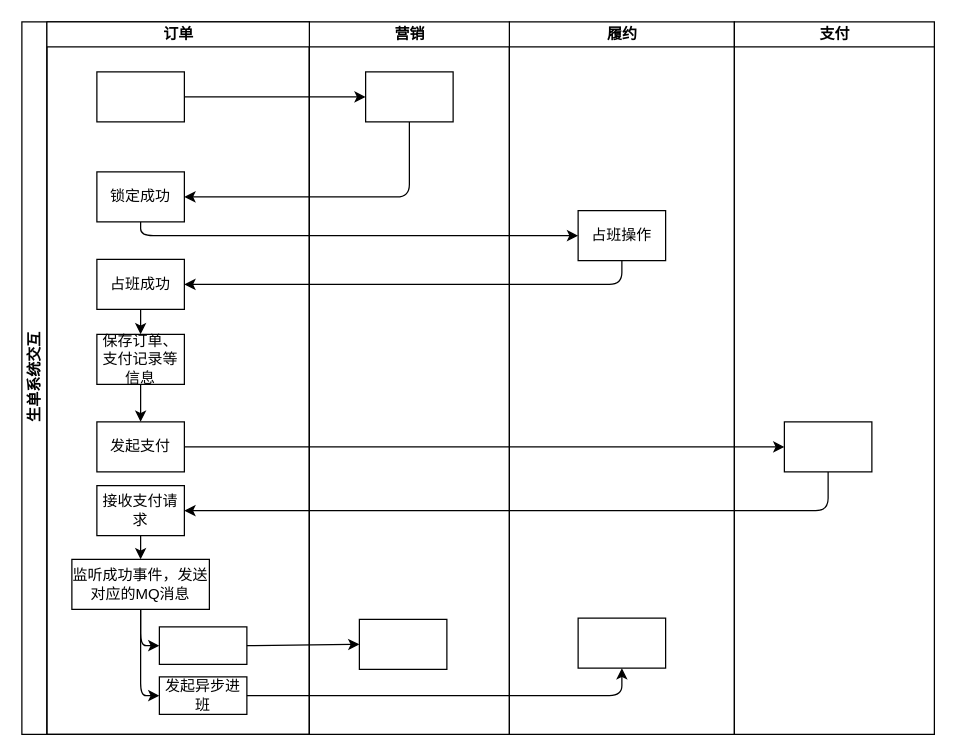
This 956x756 diagram has some shape labels left out. Here are the shapes that lost their labels. From the top down, the centre of each, then its label:
(x=140, y=96): 生单请求
(x=408, y=96): 优惠券锁定
(x=827, y=446): 调用三方支付
(x=202, y=645): 发起异步核销
(x=402, y=643): 优惠券核销
(x=621, y=642): 进班
